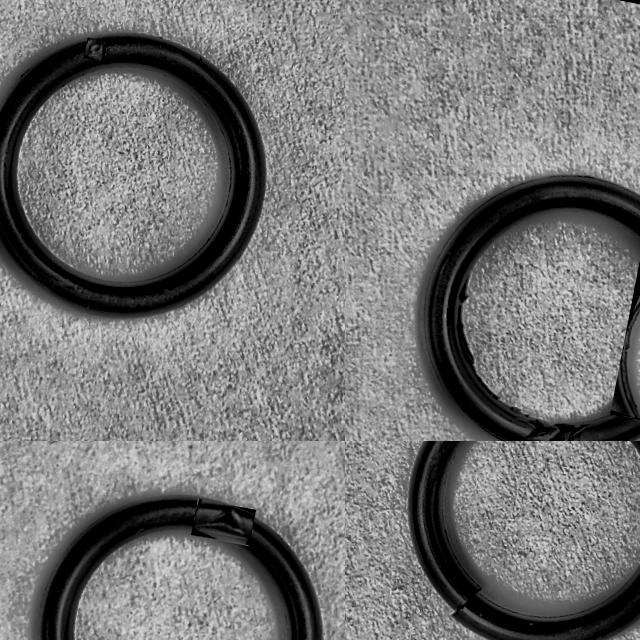切割缺陷: (194, 504, 249, 539), (520, 419, 556, 441), (551, 423, 594, 441), (85, 41, 102, 59)
挤压缺陷: (443, 581, 492, 624)
裂纹: (457, 272, 500, 400), (621, 305, 640, 418), (509, 407, 529, 418)
